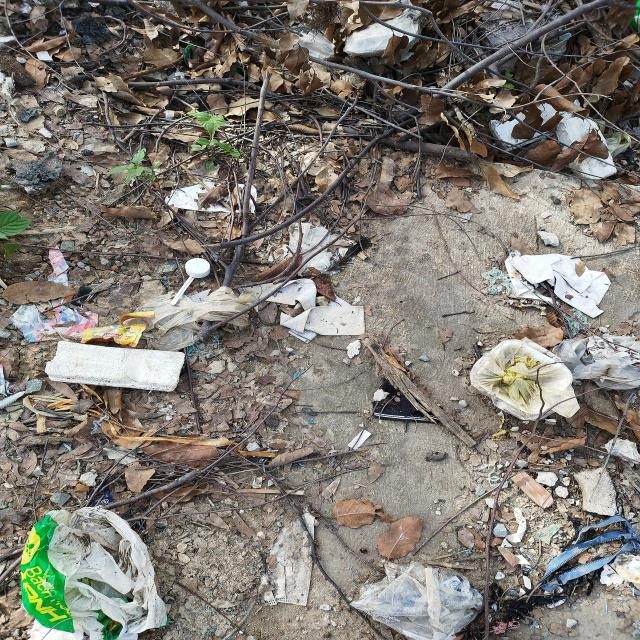bag: (22, 509, 166, 640)
foam box: (473, 340, 582, 420)
plastic utensil: (170, 258, 209, 306)
snack package: (67, 325, 144, 348)
